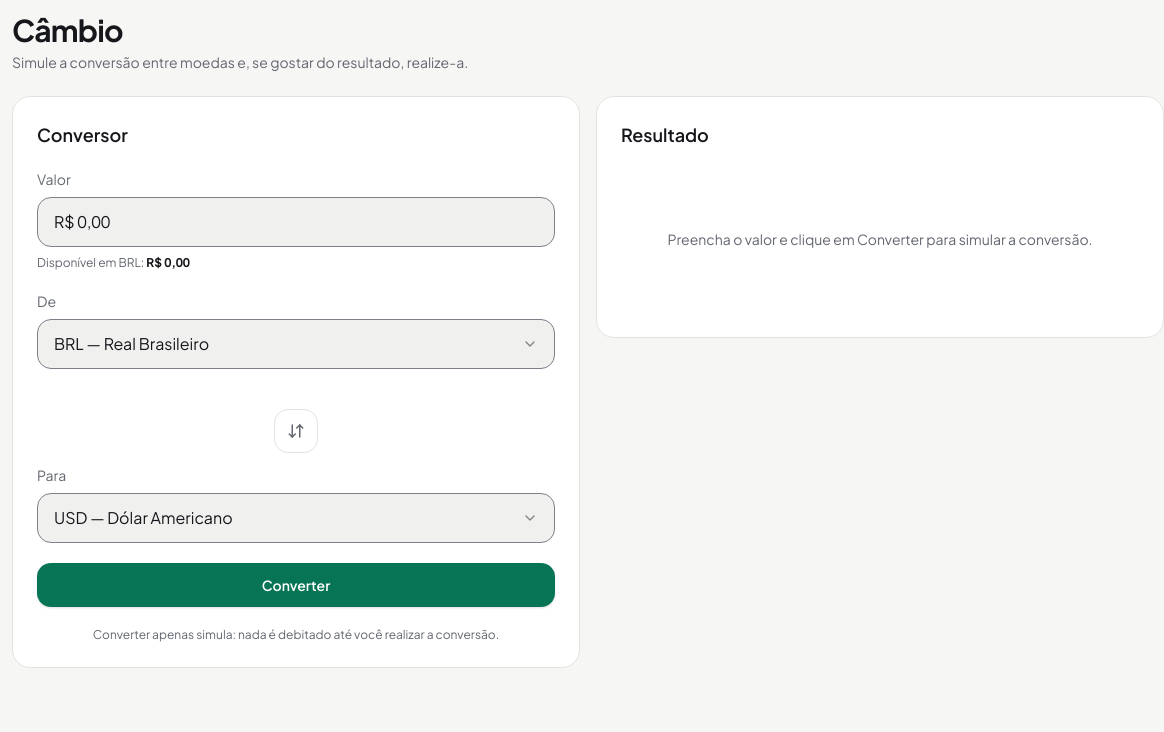
it: Exchange (simular e depois realizar) › 'Converter' só simula (POST /convert) e mostra taxa e valores, sem executar
This screenshot has width=1164, height=732.
Expected: the heading "Câmbio" is shown, [12,11,123,49]
Replace the text in the field named "Valor a converter" with "1000": (296, 222) [37,197,555,247]
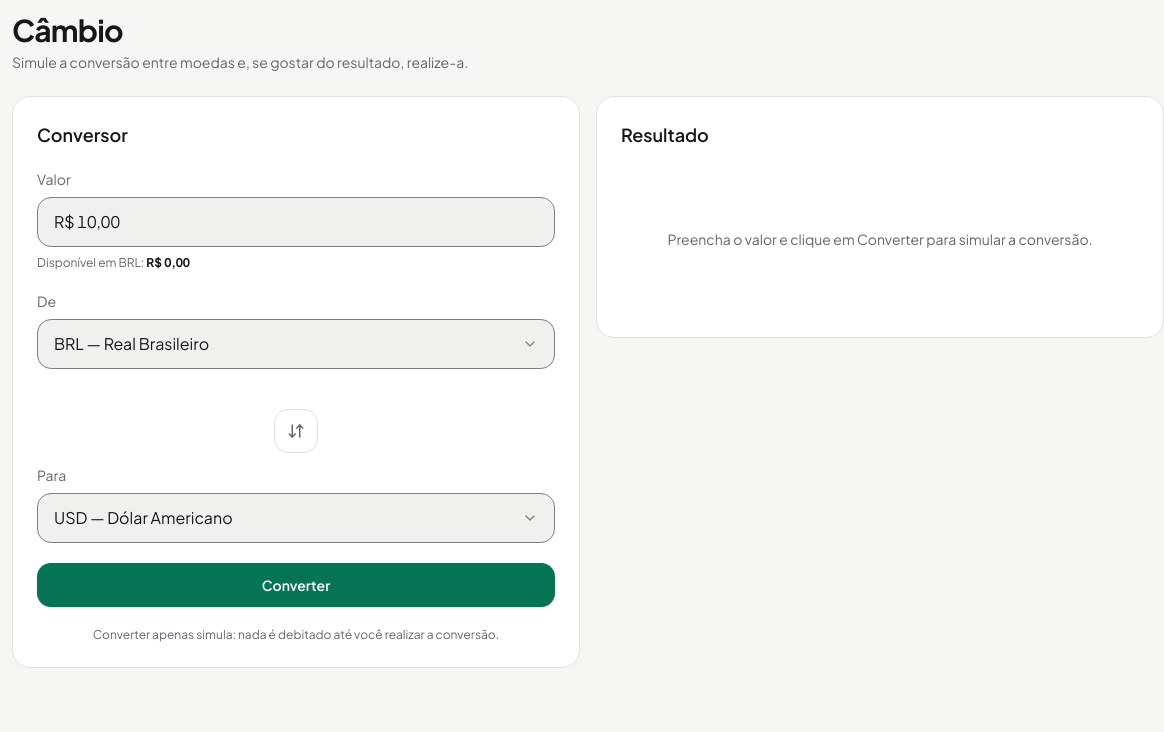
Click the button "Converter": (296, 585) [37,563,555,607]
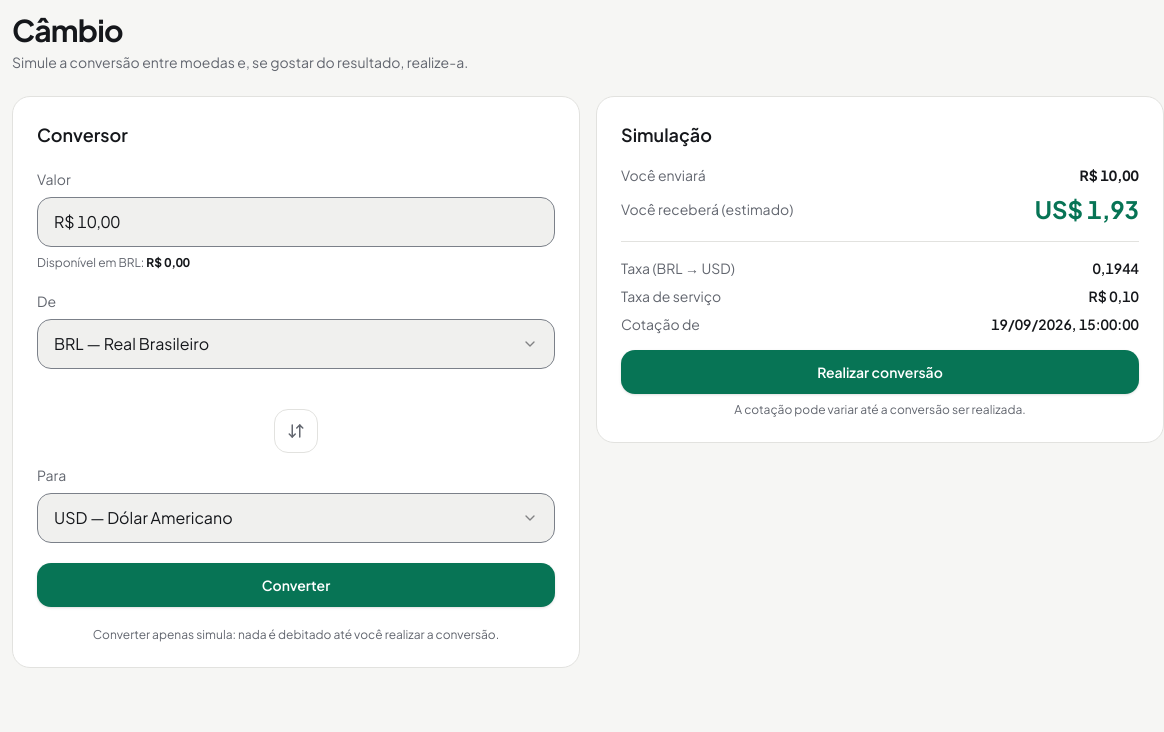
Expected: the button "Realizar conversão" is shown, [621,350,1139,394]
Expected: the heading "Simulação" is shown, [621,123,712,146]
Expected: the text "0,1944" is shown, [1092,258,1139,278]
